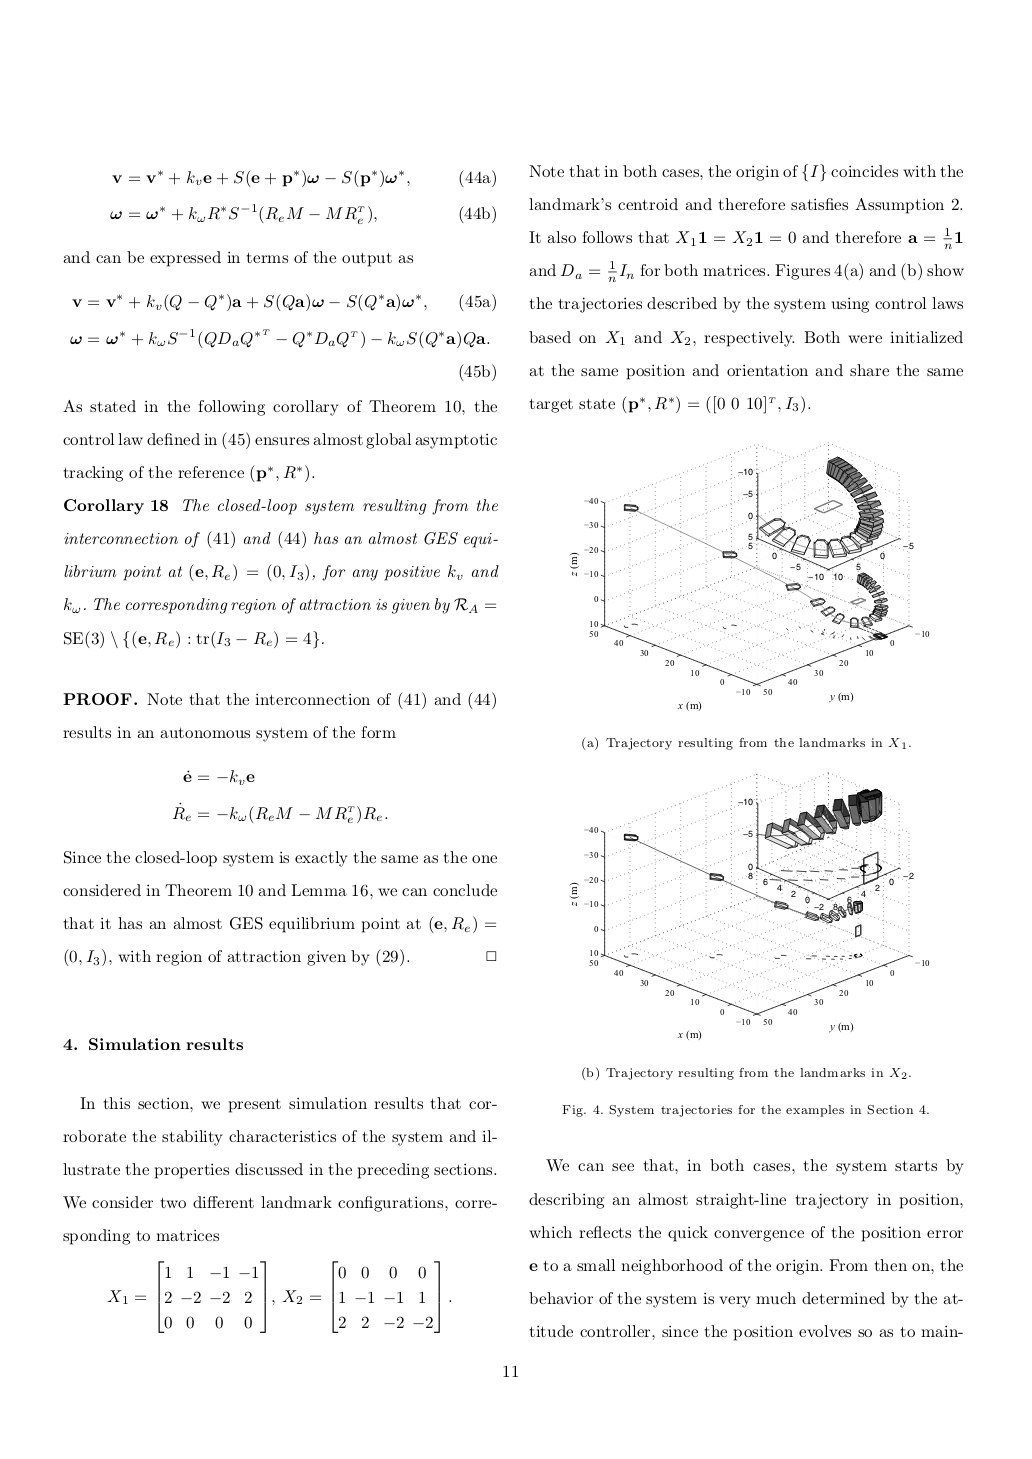figure: (568, 441, 929, 712), (568, 771, 929, 1016)
formula: (107, 1260, 451, 1333), (70, 328, 489, 349), (109, 203, 495, 224), (71, 292, 495, 311), (112, 169, 495, 188), (172, 802, 386, 824), (183, 768, 254, 786)
